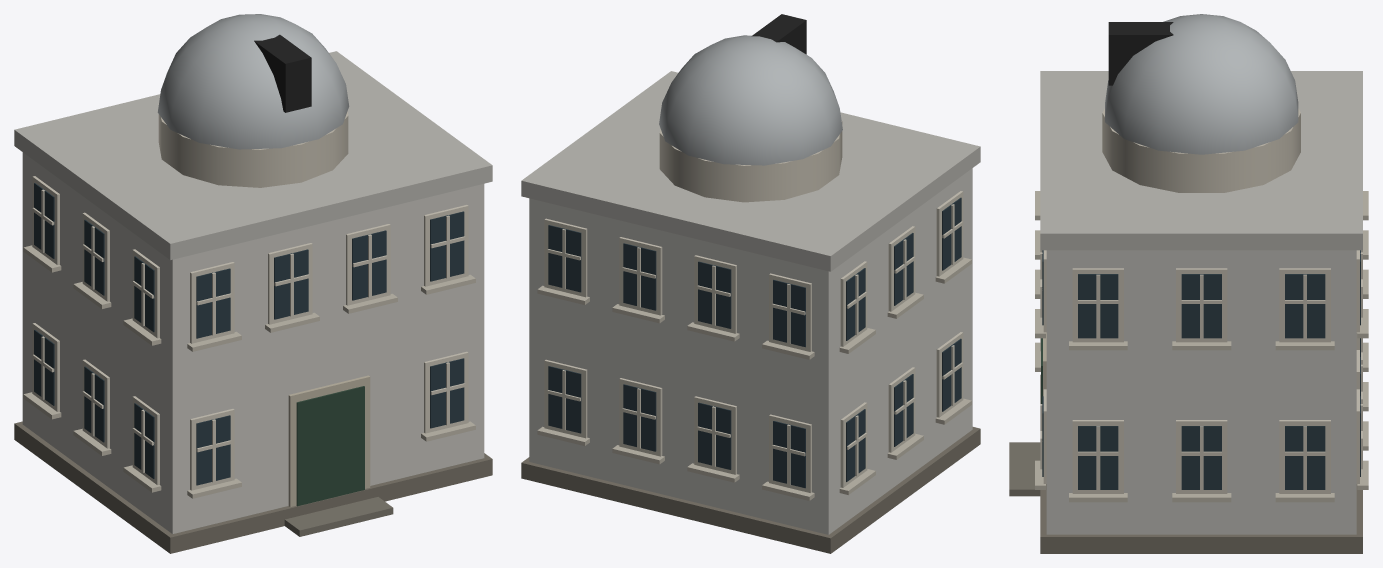
Rendered from procedural_observatory@6.glb.
3 views of the same model, side by side, from view 1: azimuth 30°, elevation 25°; view 2: azimuth 150°, elevation 25°; view 3: azimuth 270°, elevation 25° (orthographic). The views are drawn at different scales.
Visible parts, largest first — view 1: part_0; view 2: part_0; view 3: part_0.
Boxes of the visible parts, left/top/right/bottom form: part_0: left=14, top=14, right=492, bottom=553; part_0: left=521, top=14, right=980, bottom=553; part_0: left=1009, top=14, right=1368, bottom=553.
Bounding box in the file's own units: 6.38 × 8 × 5.79.
